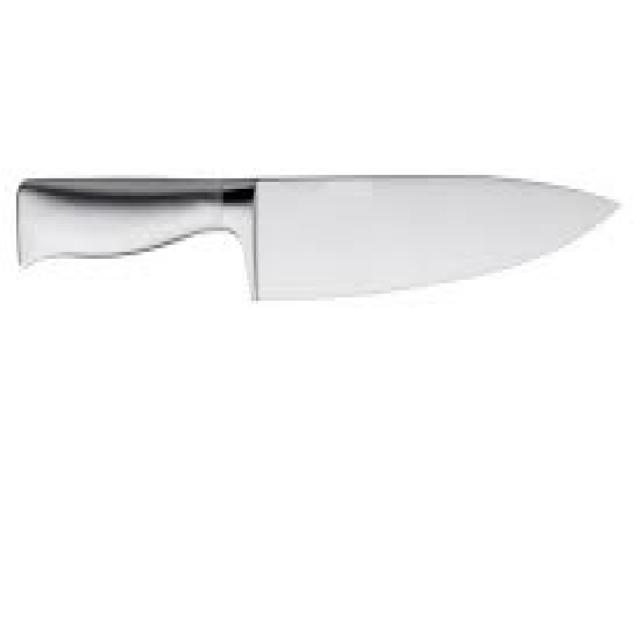Knife: (14, 171, 621, 301)
